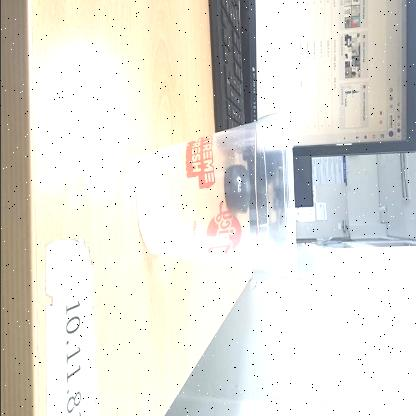Others: (136, 96, 296, 290)
